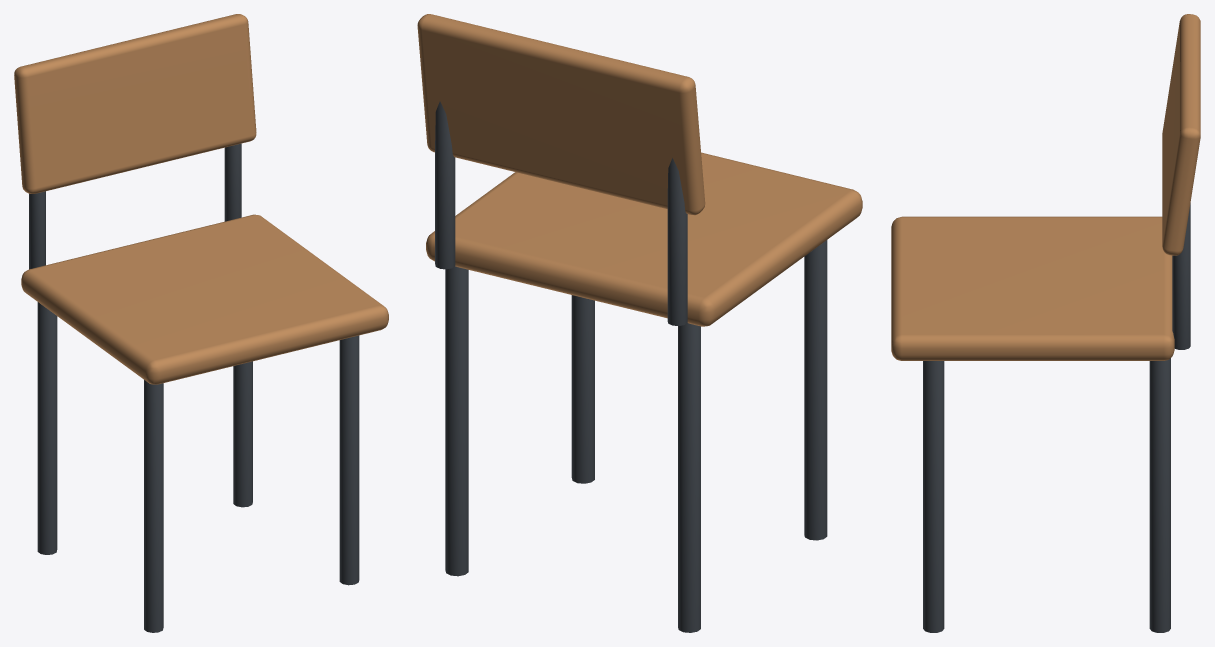
Rendered from cafechair.glb.
The picture shows the model from 3 angles, left to right: view 1: azimuth 30°, elevation 25°; view 2: azimuth 150°, elevation 25°; view 3: azimuth 270°, elevation 25°; orthographic projection. The views are drawn at different scales.
Visible parts, largest first — view 1: Cube, Cone; view 2: Cube, Cone; view 3: Cube, Cone.
Boxes of the visible parts, x1,y1,x2,y2 form: Cube: (14, 14, 388, 384); Cone: (29, 143, 359, 632); Cube: (417, 14, 862, 326); Cone: (435, 101, 827, 632); Cube: (891, 14, 1200, 360); Cone: (923, 203, 1190, 632).
Bounding box in the file's own units: 0.42 × 0.7894 × 0.4371.
